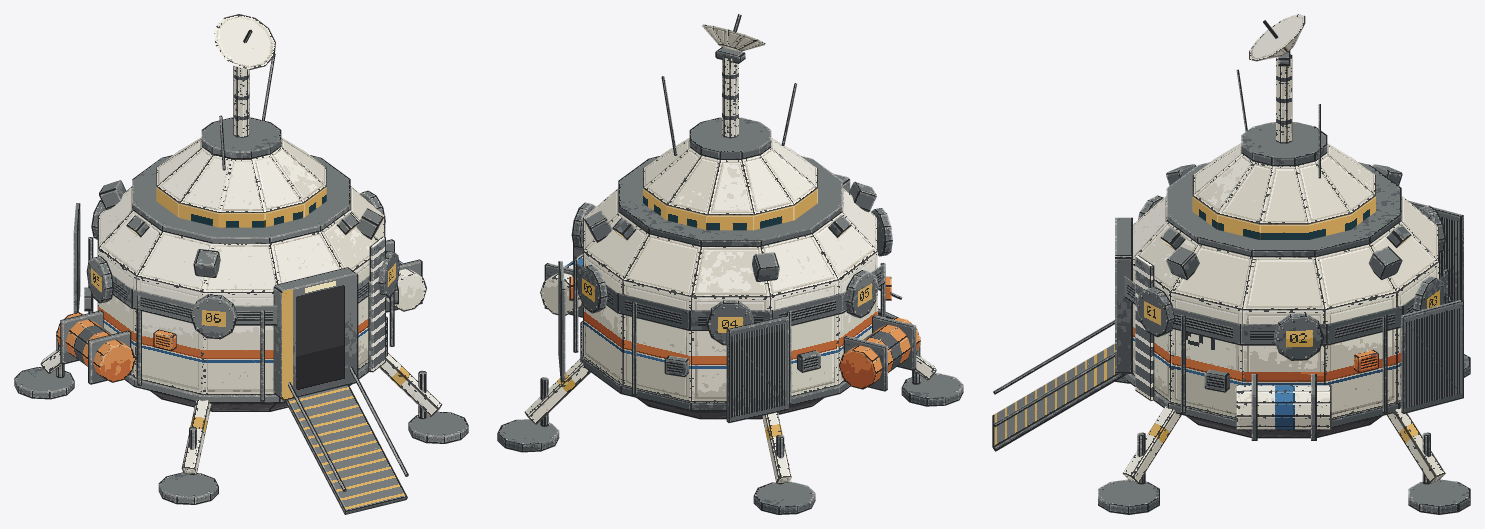
Rendered from pod.glb.
3 views of the same model, side by side, from view 1: azimuth 30°, elevation 25°; view 2: azimuth 150°, elevation 25°; view 3: azimuth 270°, elevation 25° (orthographic). The views are drawn at different scales.
Parts seen in each view (by area): view 1: shoulder, hull, hatch, dome, ramp, collar, band, dish, windows, fueltank, domecap, ladder (+19 smaller); view 2: hull, shoulder, dome, collar, rad-1, band, windows, fueltank, domecap, lip, pad2, pad1 (+18 smaller); view 3: hull, shoulder, dome, collar, rad1, band, ramp, o2tank, windows, domecap, hatch, ladder (+18 smaller).
Boxes of the visible parts, <box> form: shoulder: <box>97,186,385,292</box>; hull: <box>97,248,369,394</box>; hatch: <box>273,267,358,400</box>; dome: <box>156,137,326,212</box>; ramp: <box>285,385,407,514</box>; collar: <box>132,155,350,243</box>; band: <box>112,275,369,325</box>; dish: <box>213,14,275,69</box>; windows: <box>156,187,326,227</box>; fueltank: <box>56,312,135,382</box>; domecap: <box>201,117,281,158</box>; ladder: <box>369,236,385,372</box>; hull: <box>583,252,877,401</box>; shoulder: <box>583,188,877,297</box>; dome: <box>643,138,817,215</box>; collar: <box>618,156,842,246</box>; rad-1: <box>726,316,788,422</box>; band: <box>576,263,884,330</box>; windows: <box>643,188,817,230</box>; fueltank: <box>839,317,920,389</box>; domecap: <box>689,117,771,159</box>; lip: <box>580,321,850,410</box>; pad2: <box>753,481,815,514</box>; pad1: <box>497,419,559,452</box>; hull: <box>1132,263,1438,418</box>; shoulder: <box>1133,195,1438,310</box>; dome: <box>1192,143,1375,224</box>; collar: <box>1166,162,1401,257</box>; rad1: <box>1401,299,1463,413</box>; band: <box>1124,274,1446,345</box>; ramp: <box>992,343,1124,451</box>; o2tank: <box>1236,385,1331,429</box>; windows: <box>1192,196,1375,239</box>; domecap: <box>1241,122,1327,166</box>; hatch: <box>1115,217,1132,374</box>; ladder: <box>1135,255,1154,400</box>.
Size of the model in its own units: 139 by 155 by 161.
Materials: 1 (1 with a texture image).
